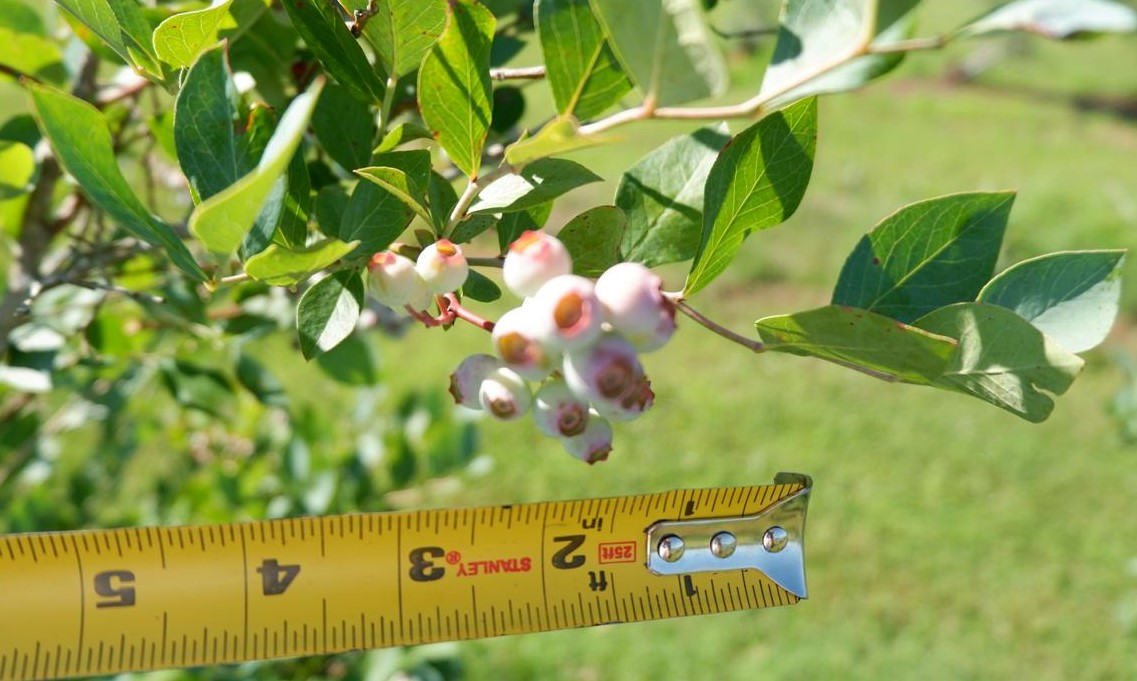Immature: (594, 262, 677, 352), (562, 323, 640, 411), (533, 274, 601, 356), (492, 306, 561, 384), (503, 230, 574, 297), (600, 358, 654, 424), (532, 378, 589, 439), (448, 354, 506, 411), (479, 366, 533, 423), (561, 409, 614, 467), (416, 238, 468, 294), (367, 250, 418, 306), (388, 266, 432, 318)
